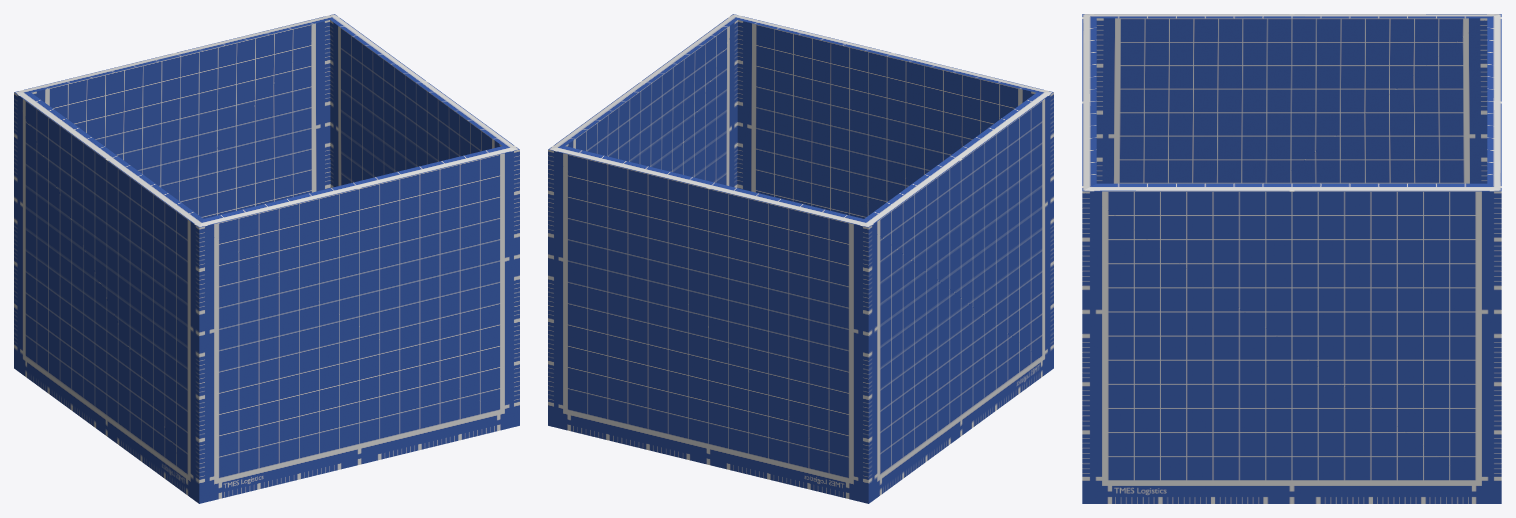
File: MP_Building_Zone.fbx
3 views of the same model, side by side, from view 1: azimuth 30°, elevation 25°; view 2: azimuth 150°, elevation 25°; view 3: azimuth 270°, elevation 25° (orthographic). The views are drawn at different scales.
Visible parts, largest first — view 1: Building_Zone; view 2: Building_Zone; view 3: Building_Zone.
Part boxes in pixels (x1,y1,x2,y2): Building_Zone: [14, 14, 519, 503]; Building_Zone: [548, 14, 1053, 503]; Building_Zone: [1082, 14, 1501, 503].
Bounding box in the file's own units: 484 × 400 × 484.
1 material, 1 textured.
